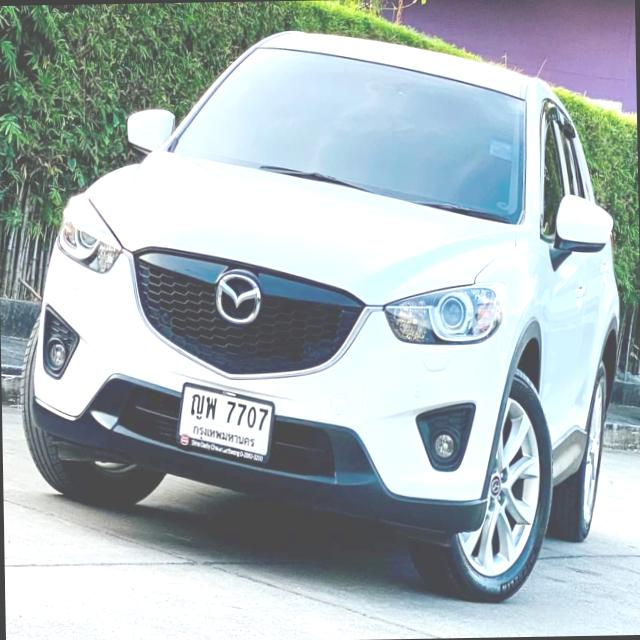license_plate: (175, 372, 277, 471)
